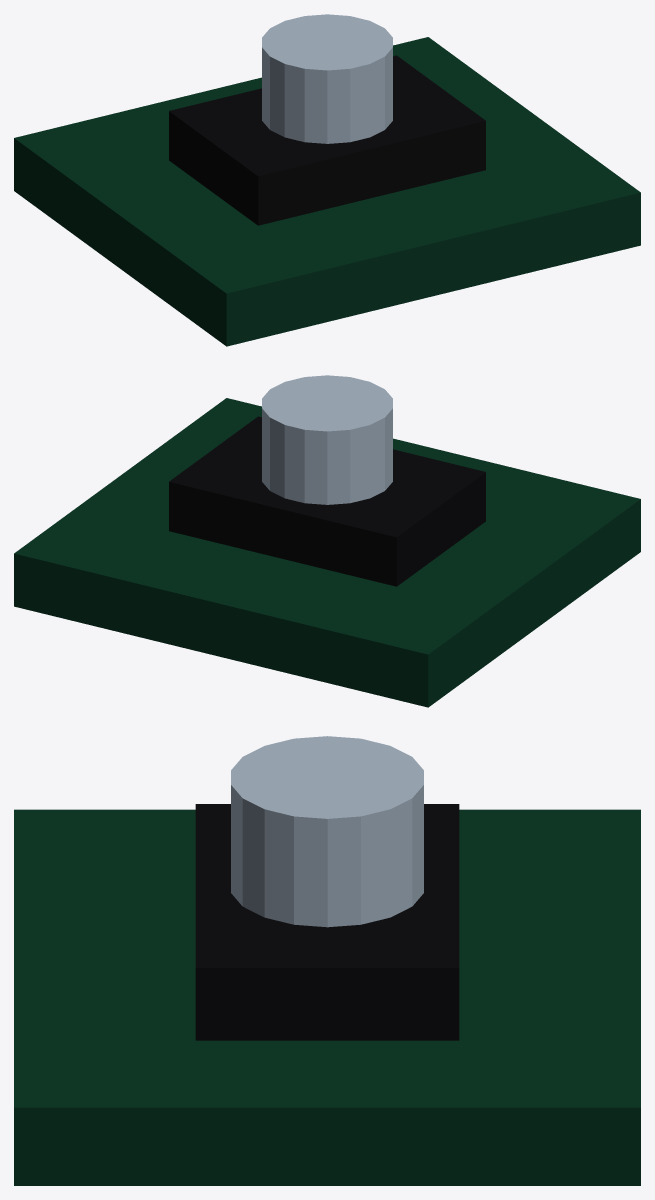
File: 35_L96_S1_Sensor.fbx
The picture shows the model from 3 angles, top to bottom: view 1: azimuth 30°, elevation 25°; view 2: azimuth 150°, elevation 25°; view 3: azimuth 270°, elevation 25°; orthographic projection. The views are drawn at different scales.
Visible parts, largest first — view 1: S1_000_Mini_Module_PCB, S1_001_Sensor_Interface_Package, S1_006_RTD_Sensor_Can; view 2: S1_000_Mini_Module_PCB, S1_001_Sensor_Interface_Package, S1_006_RTD_Sensor_Can; view 3: S1_000_Mini_Module_PCB, S1_001_Sensor_Interface_Package, S1_006_RTD_Sensor_Can.
Part boxes in pixels (x1,y1,x2,y2): S1_000_Mini_Module_PCB: [14, 37, 640, 346]; S1_001_Sensor_Interface_Package: [169, 55, 485, 225]; S1_006_RTD_Sensor_Can: [262, 14, 392, 143]; S1_000_Mini_Module_PCB: [14, 398, 640, 707]; S1_001_Sensor_Interface_Package: [169, 416, 485, 586]; S1_006_RTD_Sensor_Can: [262, 375, 392, 504]; S1_000_Mini_Module_PCB: [14, 809, 640, 1185]; S1_001_Sensor_Interface_Package: [195, 804, 459, 1040]; S1_006_RTD_Sensor_Can: [231, 736, 423, 927].
Bounding box in the file's own units: 0.009 × 0.00407 × 0.008.
